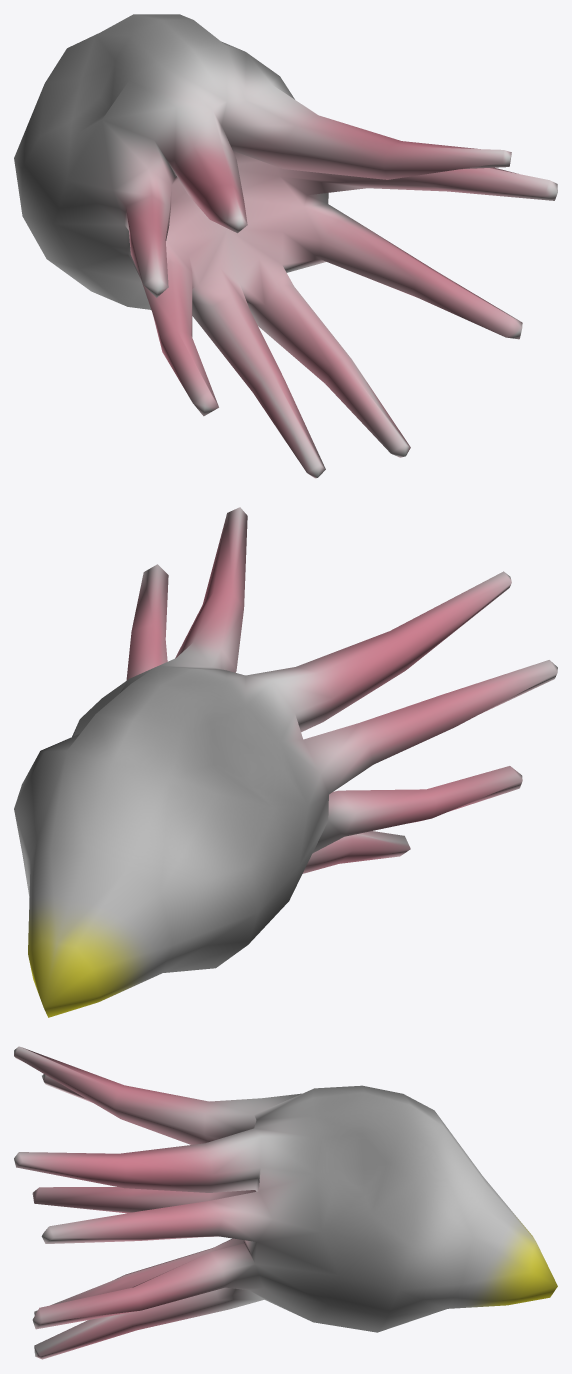
Rendered from Squid.fbx.
3 renders of one model, top to bottom at view 1: azimuth 30°, elevation 25°; view 2: azimuth 150°, elevation 25°; view 3: azimuth 270°, elevation 25°, orthographic. The views are drawn at different scales.
Visible parts, largest first — view 1: Squid; view 2: Squid; view 3: Squid.
Part boxes in pixels (box(x1,y1,x2,y2)): Squid: box(14, 14, 557, 478); Squid: box(14, 507, 557, 1017); Squid: box(14, 1046, 557, 1359).
Size of the model in its own units: 307 by 216 by 427.
